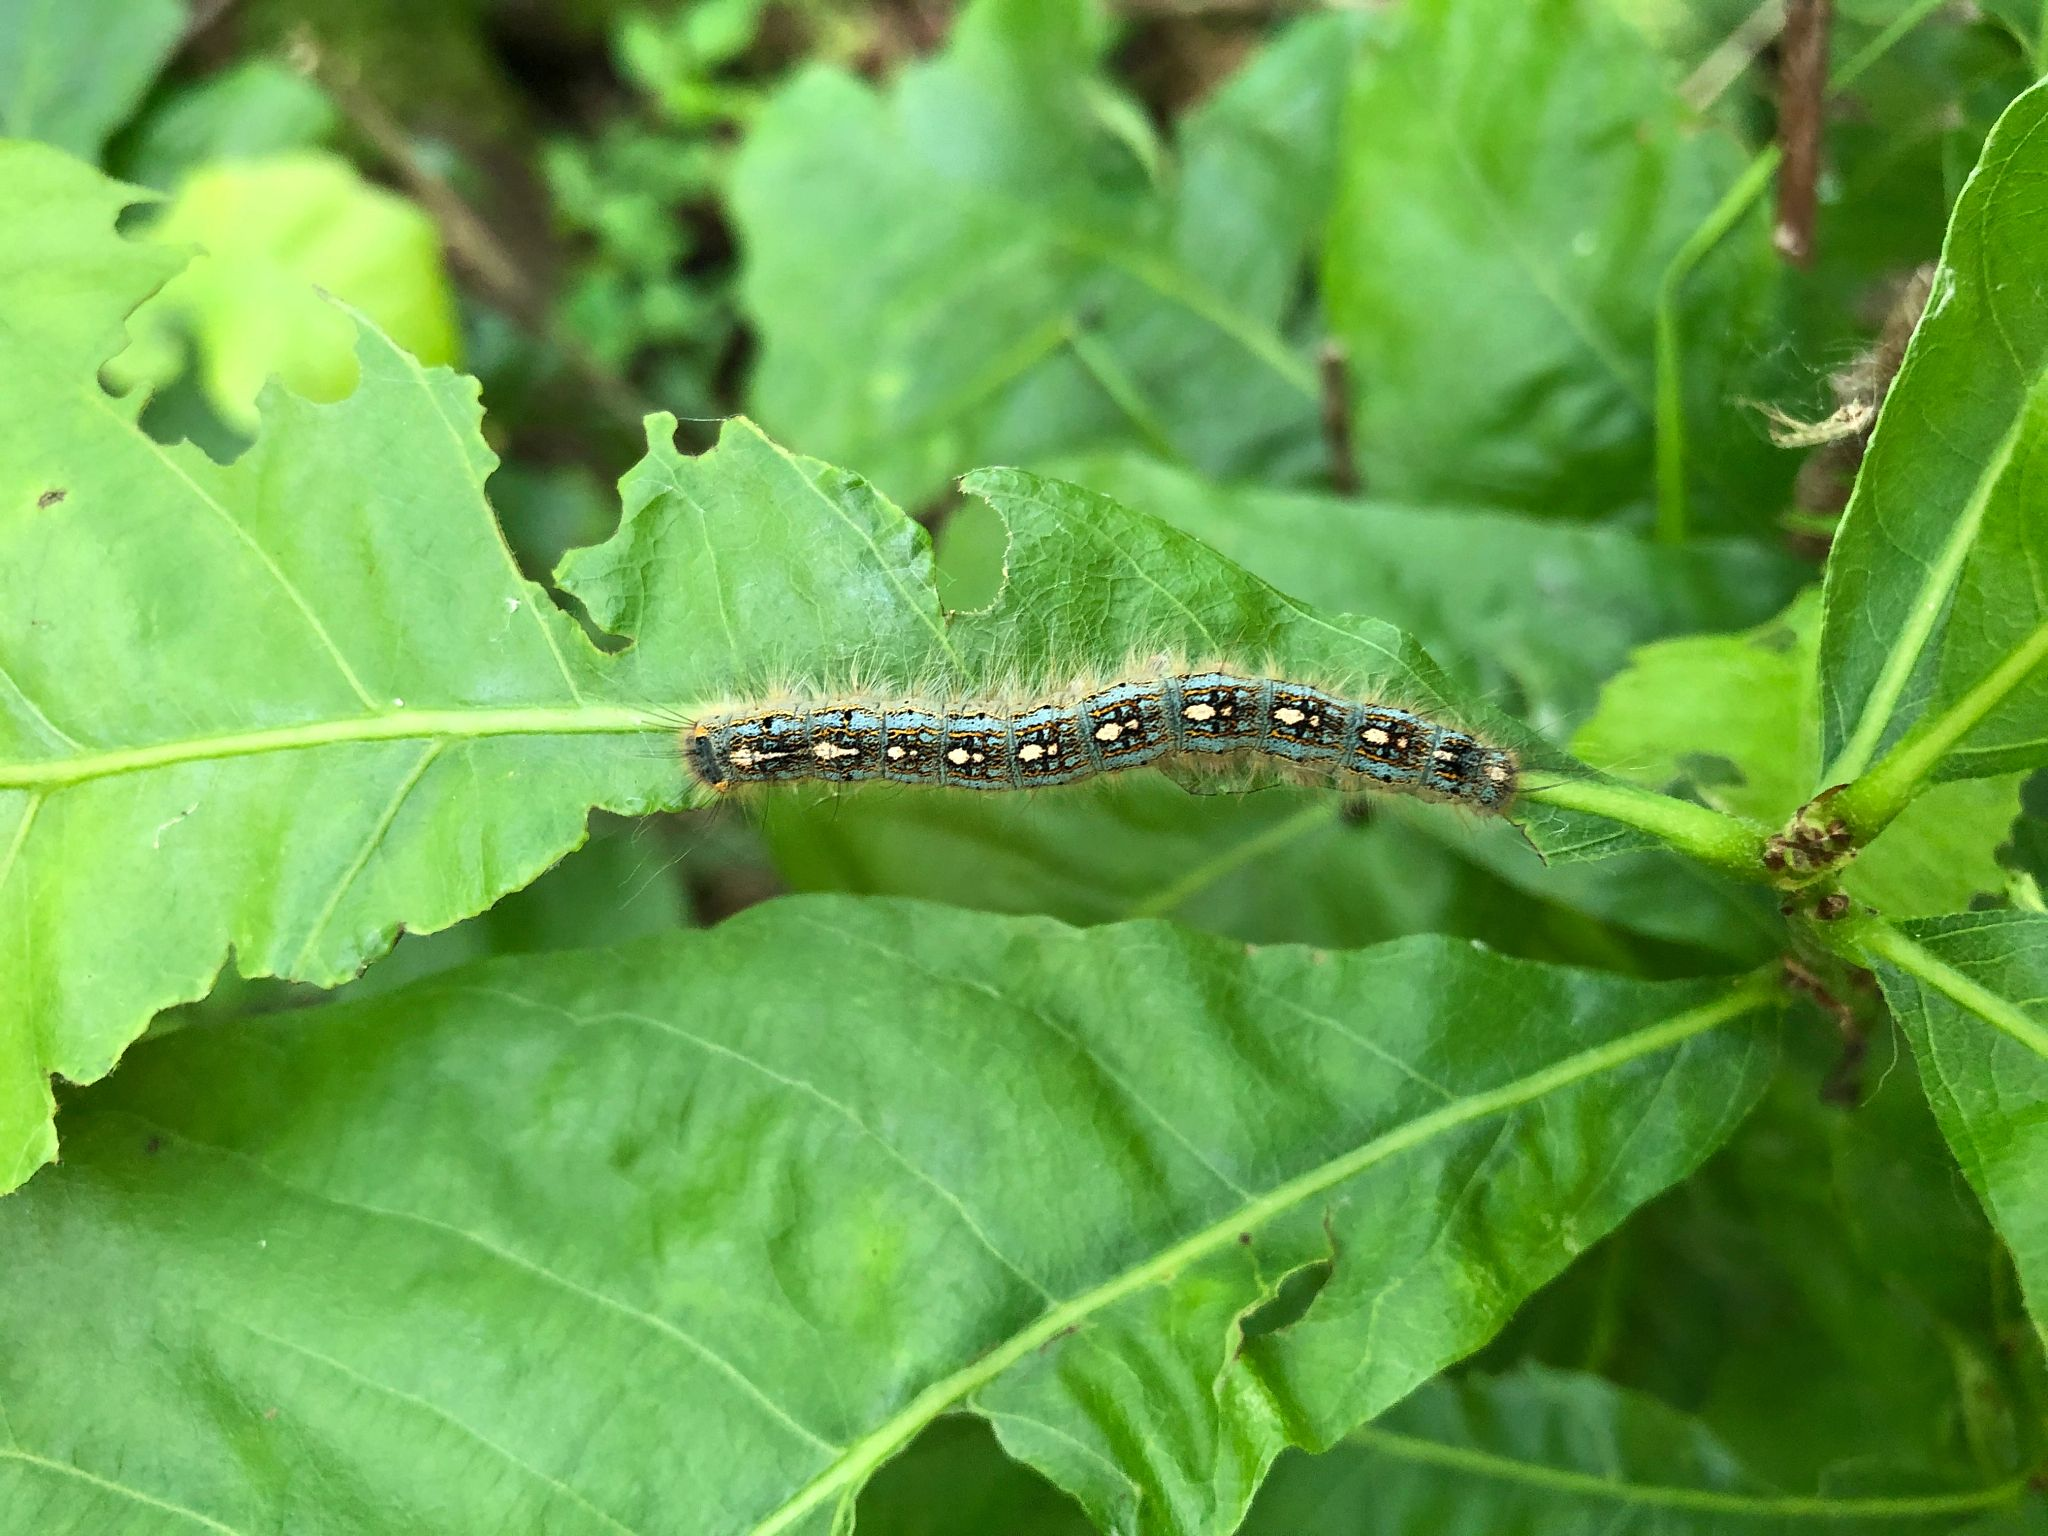Caterpillar: (689, 658, 1534, 836)
